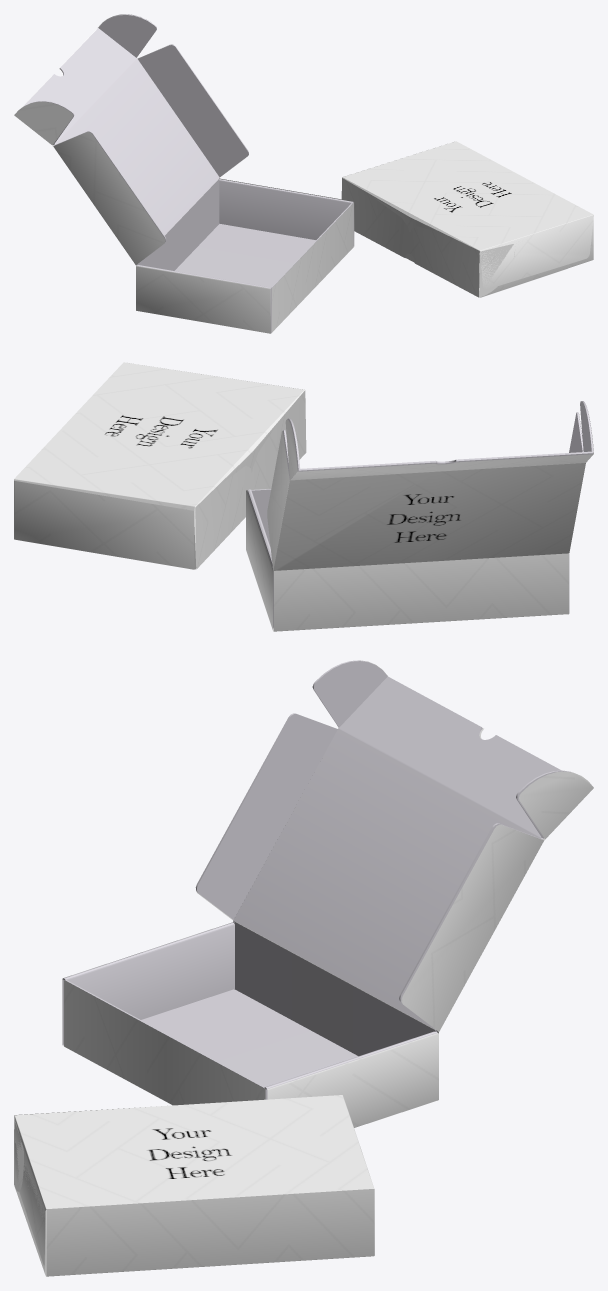
File: Die Cut A-1.glb
The picture shows the model from 3 angles, top to bottom: view 1: azimuth 30°, elevation 25°; view 2: azimuth 150°, elevation 25°; view 3: azimuth 270°, elevation 25°; orthographic projection. The views are drawn at different scales.
Parts seen in each view (by area): view 1: Box3.001, Box3-outer.001, Box3-outer; view 2: Box3-outer, Box3-outer.001, Box3.001; view 3: Box3.001, Box3-outer.001, Box3-outer.
Boxes of the visible parts, x1,y1,x2,y2 form: Box3.001: (23, 14, 353, 333); Box3-outer.001: (341, 141, 593, 297); Box3-outer: (14, 14, 354, 333); Box3-outer: (246, 411, 593, 631); Box3-outer.001: (14, 362, 306, 569); Box3.001: (247, 401, 593, 628); Box3.001: (62, 660, 572, 1099); Box3-outer.001: (14, 1095, 374, 1276); Box3-outer: (62, 660, 593, 1127).
Size of the model in its own units: 8.38 by 3.34 by 6.05.
Materials: 2 (1 with a texture image).
